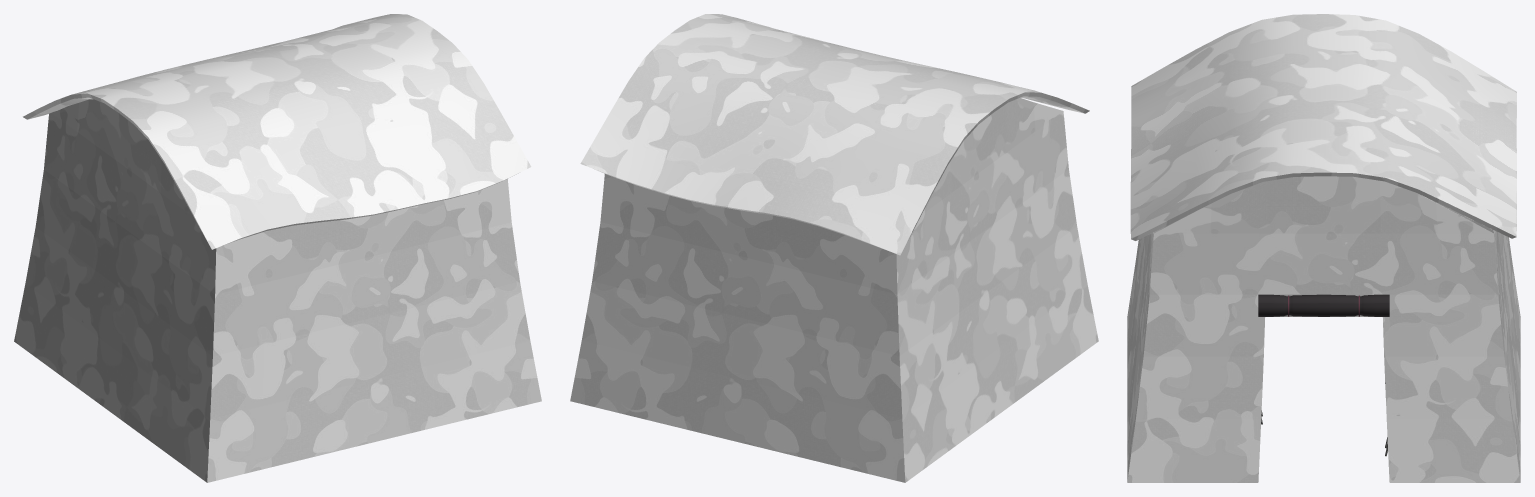
The model's file is Barracks.fbx.
The picture shows the model from 3 angles, left to right: view 1: azimuth 30°, elevation 25°; view 2: azimuth 150°, elevation 25°; view 3: azimuth 270°, elevation 25°; orthographic projection.
Visible parts, largest first — view 1: Barracks_LOD0; view 2: Barracks_LOD0; view 3: Barracks_LOD0.
Boxes of the visible parts, <box> form: Barracks_LOD0: <box>14,14,541,482</box>; Barracks_LOD0: <box>570,14,1098,482</box>; Barracks_LOD0: <box>1127,14,1520,482</box>.
Size of what is drawn, in the model's own units: 600 by 515 by 599.
